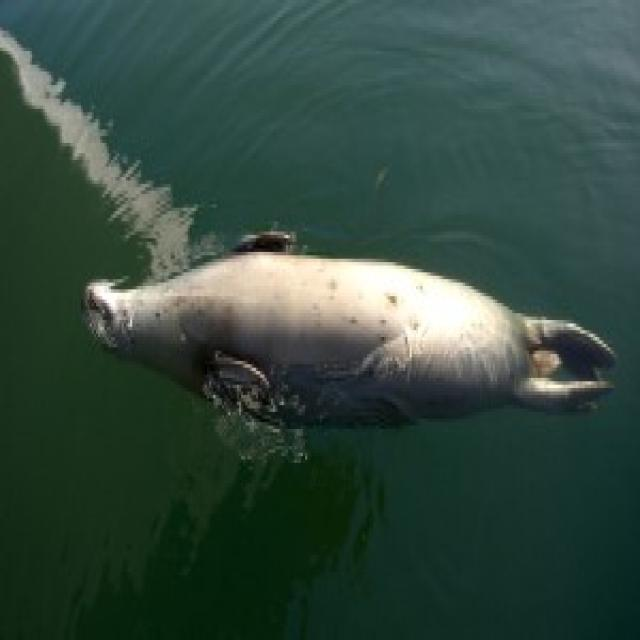Seal: (59, 225, 640, 493)
